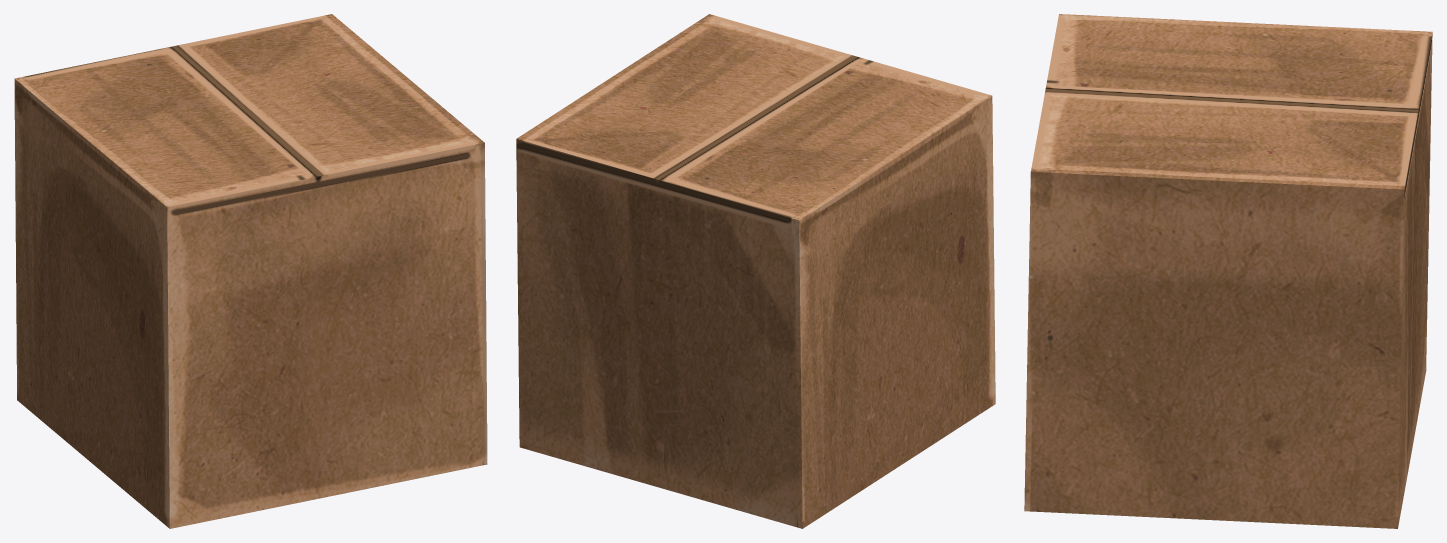
File: коробочка закрытая.glb
The picture shows the model from 3 angles, left to right: view 1: azimuth 30°, elevation 25°; view 2: azimuth 150°, elevation 25°; view 3: azimuth 270°, elevation 25°; orthographic projection. The views are drawn at different scales.
Visible parts, largest first — view 1: коробочка закрытая; view 2: коробочка закрытая; view 3: коробочка закрытая.
Boxes of the visible parts, bbox=[...] form: коробочка закрытая: bbox=[14, 14, 487, 528]; коробочка закрытая: bbox=[516, 14, 995, 528]; коробочка закрытая: bbox=[1024, 14, 1432, 528].
Size of the model in its own units: 0.2462 by 0.2332 by 0.2498.
Materials: 1 (1 with a texture image).
